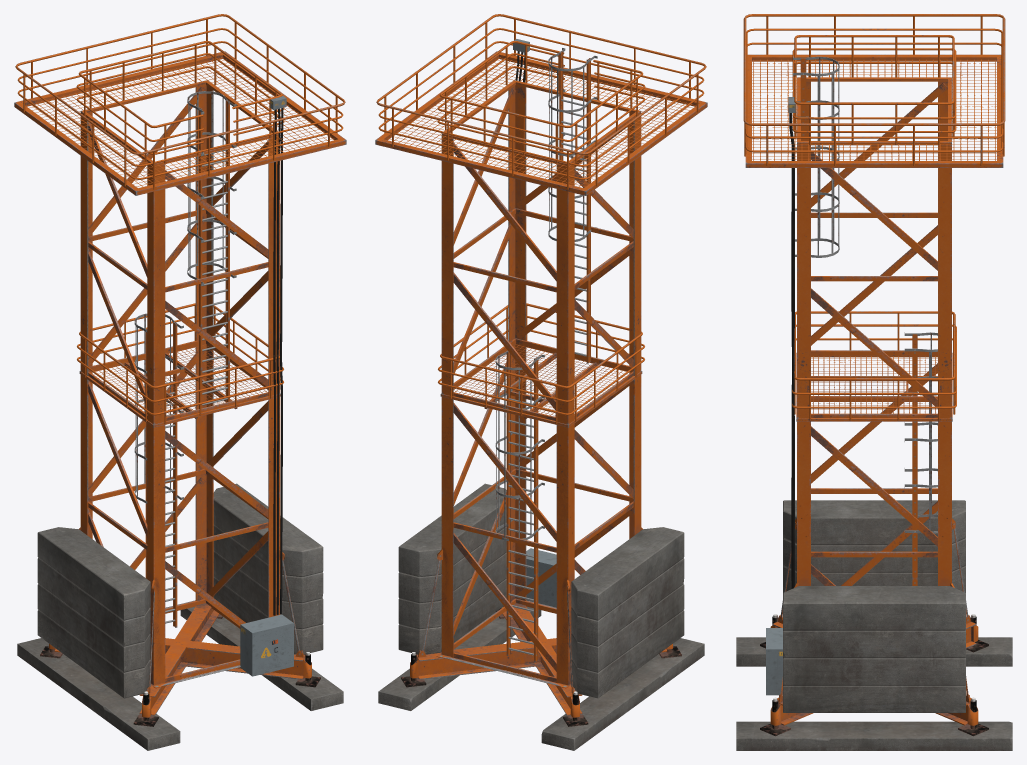
File: CraneBasePrefab_02.fbx
3 views of the same model, side by side, from view 1: azimuth 30°, elevation 25°; view 2: azimuth 150°, elevation 25°; view 3: azimuth 270°, elevation 25° (orthographic). The views are drawn at different scales.
Parts seen in each view (by area): view 1: Crane_Base_Prefab_02_LOD0; view 2: Crane_Base_Prefab_02_LOD0; view 3: Crane_Base_Prefab_02_LOD0.
Boxes of the visible parts, x1,y1,x2,y2 form: Crane_Base_Prefab_02_LOD0: (14,14,346,750); Crane_Base_Prefab_02_LOD0: (375,14,707,750); Crane_Base_Prefab_02_LOD0: (736,14,1012,750).
Size of what is drawn, in the model's own units: 5.15 by 13.81 by 5.45.
